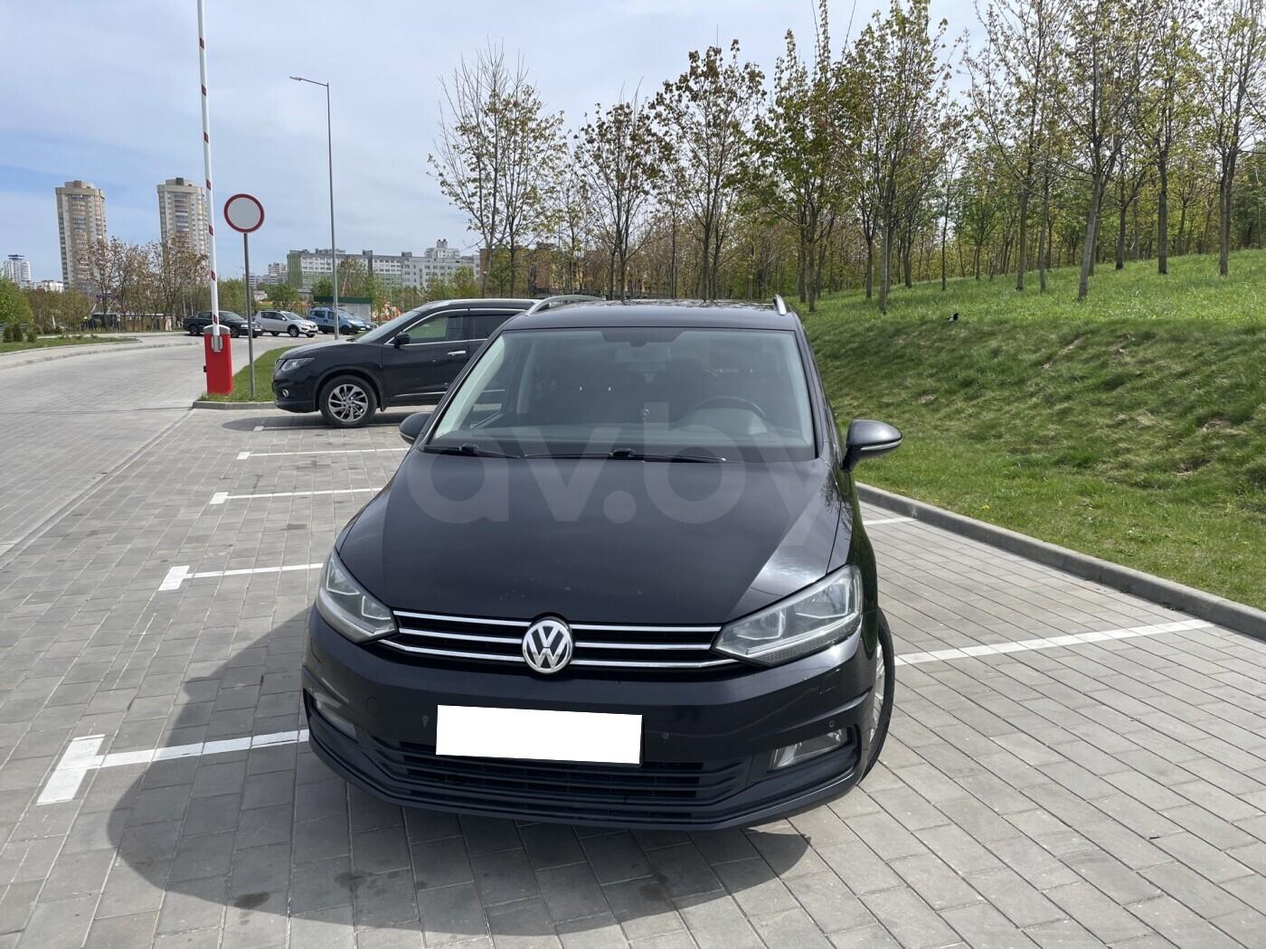Touran_2015: (297, 294, 900, 817)
